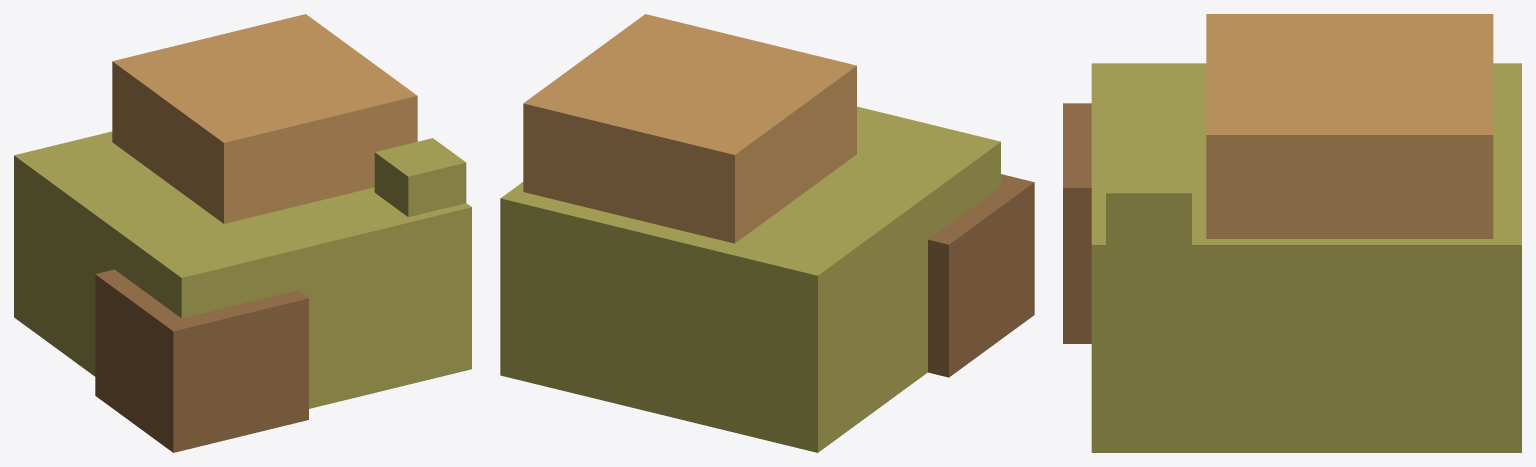
Rendered from DryBush.glb.
3 views of the same model, side by side, from view 1: azimuth 30°, elevation 25°; view 2: azimuth 150°, elevation 25°; view 3: azimuth 270°, elevation 25° (orthographic). The views are drawn at different scales.
Visible parts, largest first — view 1: DryBush; view 2: DryBush; view 3: DryBush.
Part boxes in pixels (x1,y1,x2,y2): DryBush: (14,14,471,452); DryBush: (500,14,1034,452); DryBush: (1063,14,1521,452).
Bounding box in the file's own units: 3.2 × 2.4 × 3.2.
Materials: 1 (1 with a texture image).
